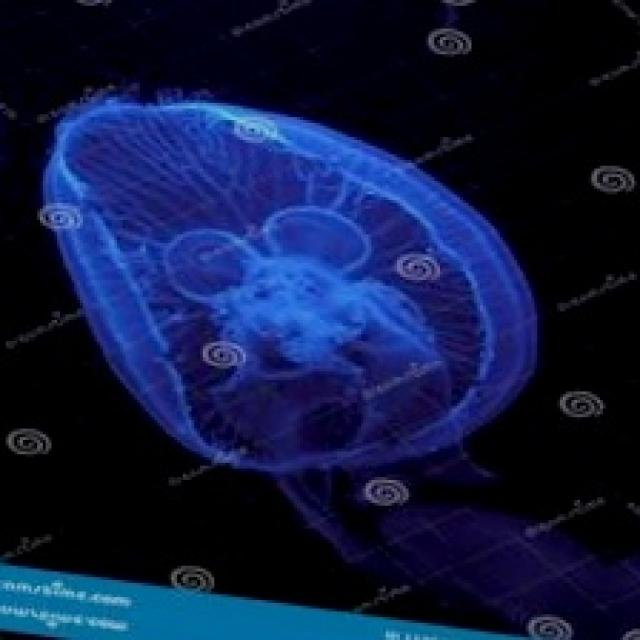Moon-jellyfish: (34, 83, 540, 483)
